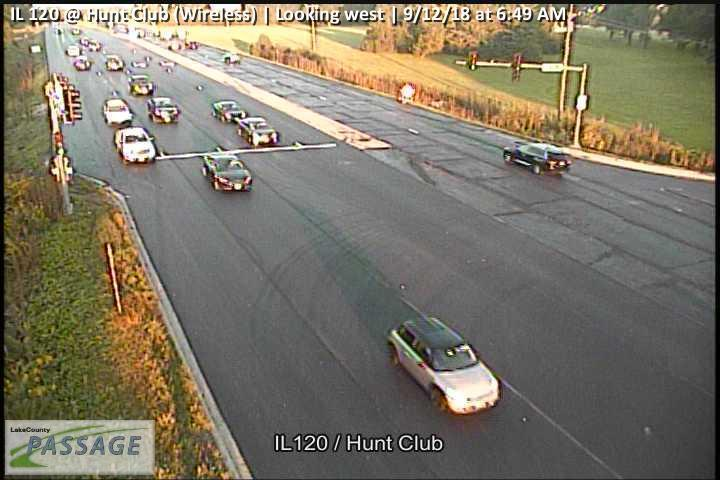SUV: (385, 315, 502, 414), (500, 138, 573, 174)
Sedan: (198, 151, 253, 192), (112, 124, 158, 164), (238, 114, 277, 147), (145, 95, 180, 124), (101, 96, 133, 127), (210, 98, 246, 123), (127, 72, 155, 99)
